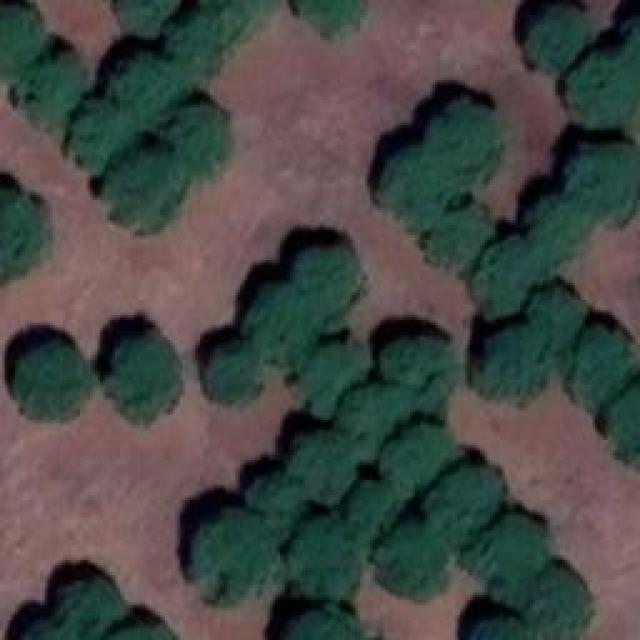Tree: (180, 518, 260, 598), (108, 148, 183, 233), (375, 153, 453, 233), (290, 518, 365, 601), (110, 50, 183, 133), (478, 513, 548, 598), (0, 177, 52, 290), (562, 140, 640, 215), (565, 50, 640, 128), (375, 518, 445, 601), (108, 335, 173, 423), (425, 100, 500, 175), (243, 280, 313, 360), (373, 423, 458, 488), (280, 428, 355, 501), (378, 335, 458, 403), (20, 343, 83, 428), (170, 8, 245, 78), (22, 53, 90, 128), (482, 328, 550, 401), (525, 560, 588, 638), (427, 465, 495, 533), (570, 327, 628, 405), (477, 237, 535, 315), (300, 340, 363, 410), (523, 195, 588, 258), (525, 5, 588, 70), (52, 577, 117, 640), (303, 242, 363, 310), (168, 105, 228, 173), (342, 385, 410, 440), (425, 210, 485, 270), (68, 103, 118, 173), (203, 342, 258, 400), (530, 285, 583, 343), (605, 373, 640, 458), (343, 480, 393, 538), (243, 475, 296, 528), (280, 607, 360, 640), (0, 3, 35, 78), (300, 0, 368, 35), (115, 0, 172, 32), (100, 620, 175, 640), (470, 620, 538, 640)
